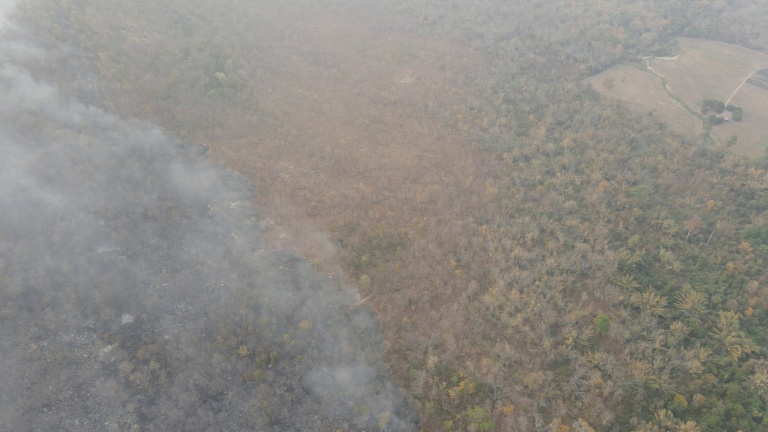smoke: (1, 95, 423, 429), (1, 1, 53, 97)
